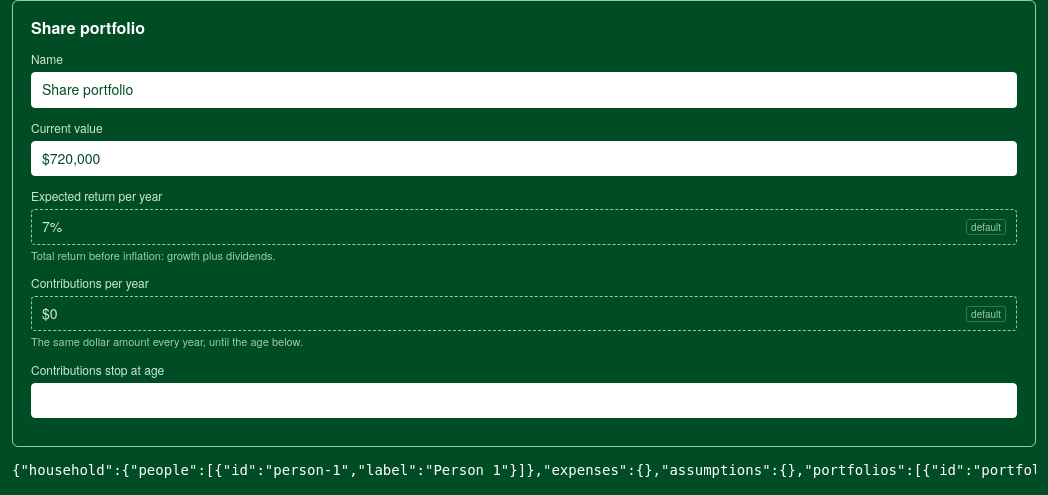
PortfolioSection › restores the dashed default when the value is cleared
The width and height of the screenshot is (1048, 495).
Clear the field labelled "Current value": x=524, y=158 [42,149,1006,168]
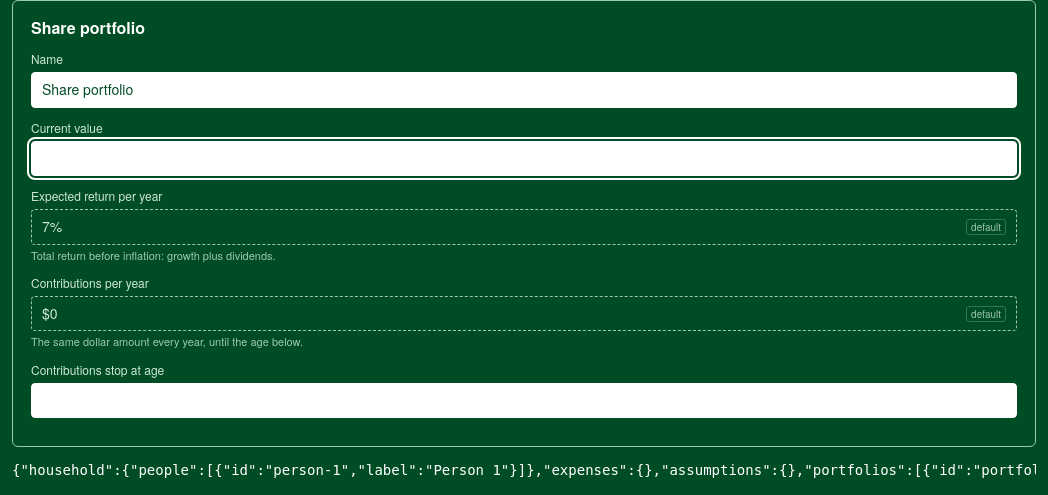
Press Tab
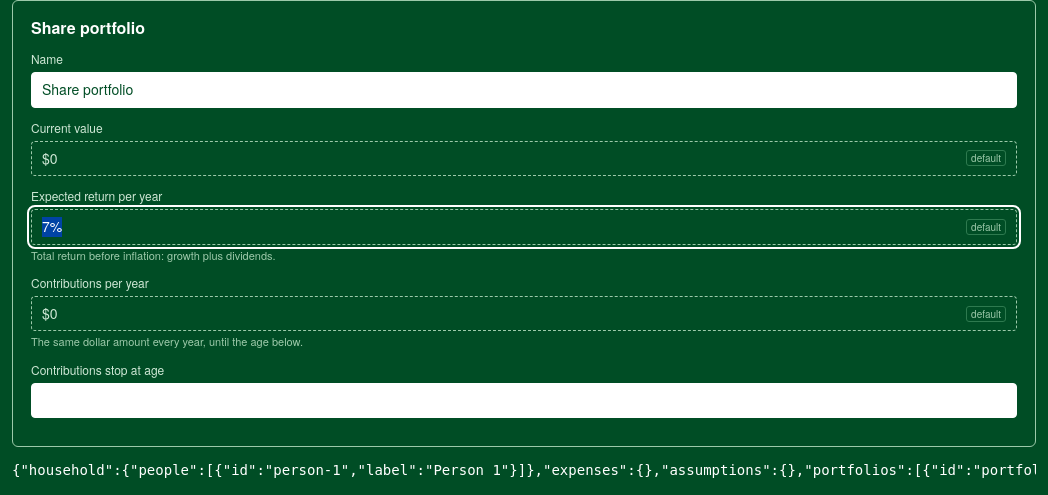
expect the field labelled "Current value" holds "$0": met, box [42,149,960,168]
